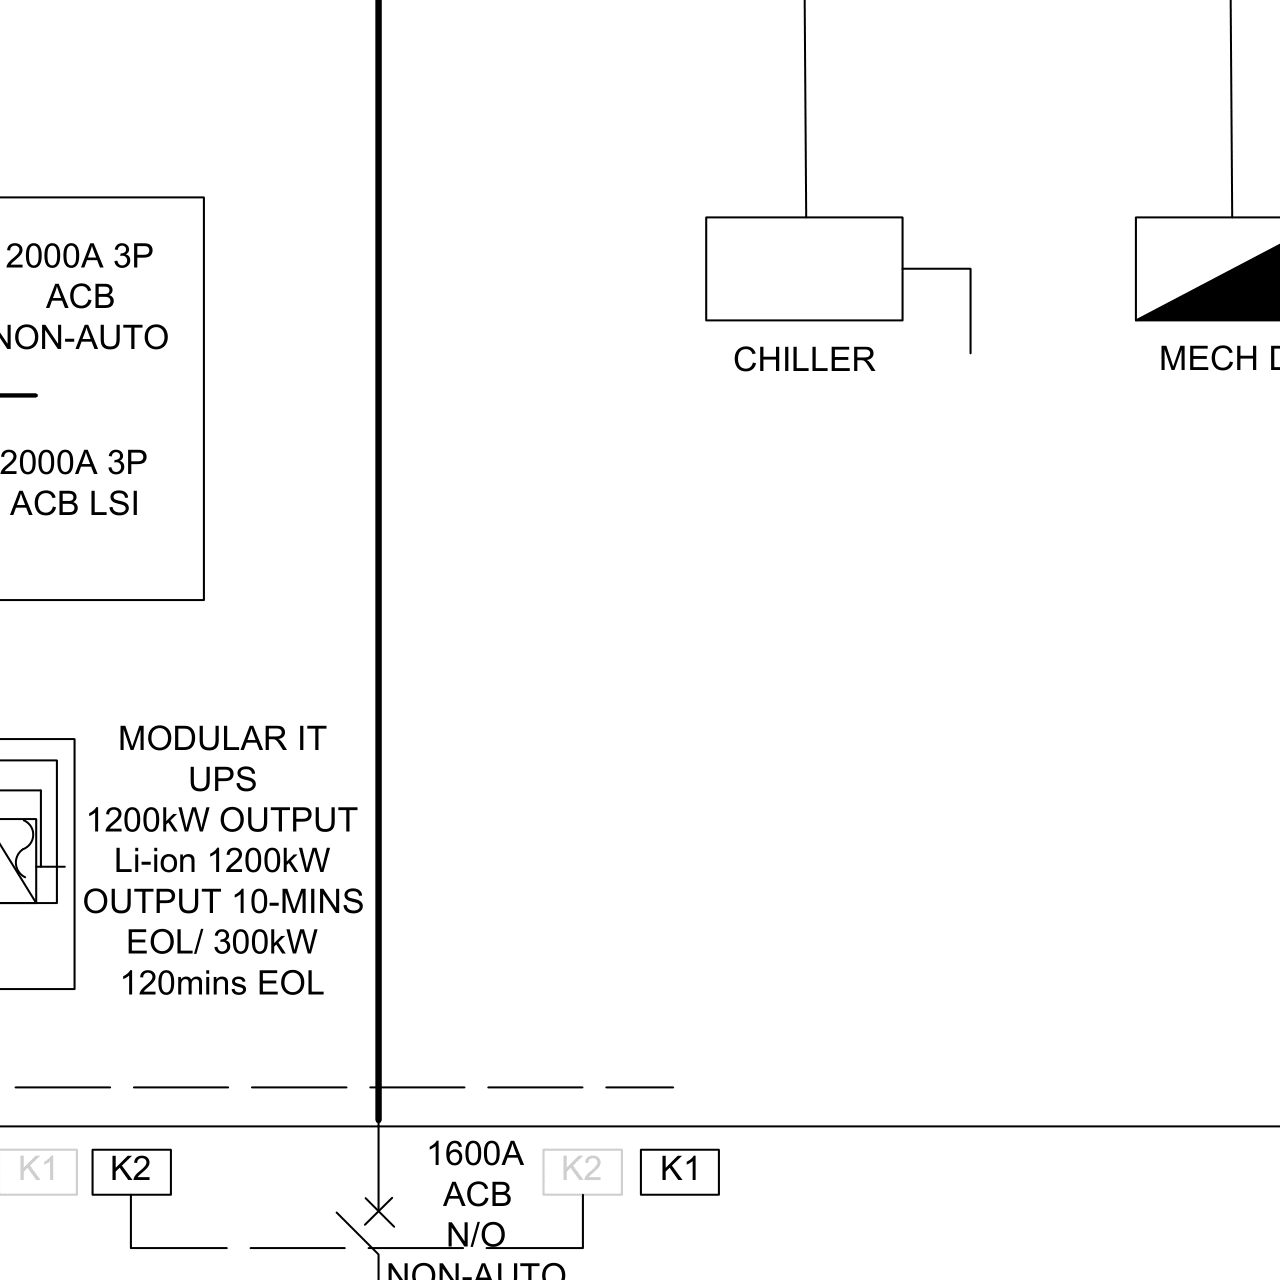Chiller: (690, 200, 980, 339)
